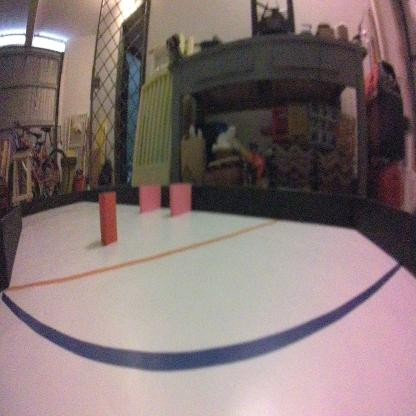magenta: (167, 178, 192, 221), (139, 180, 160, 218)
red: (97, 186, 120, 245)
